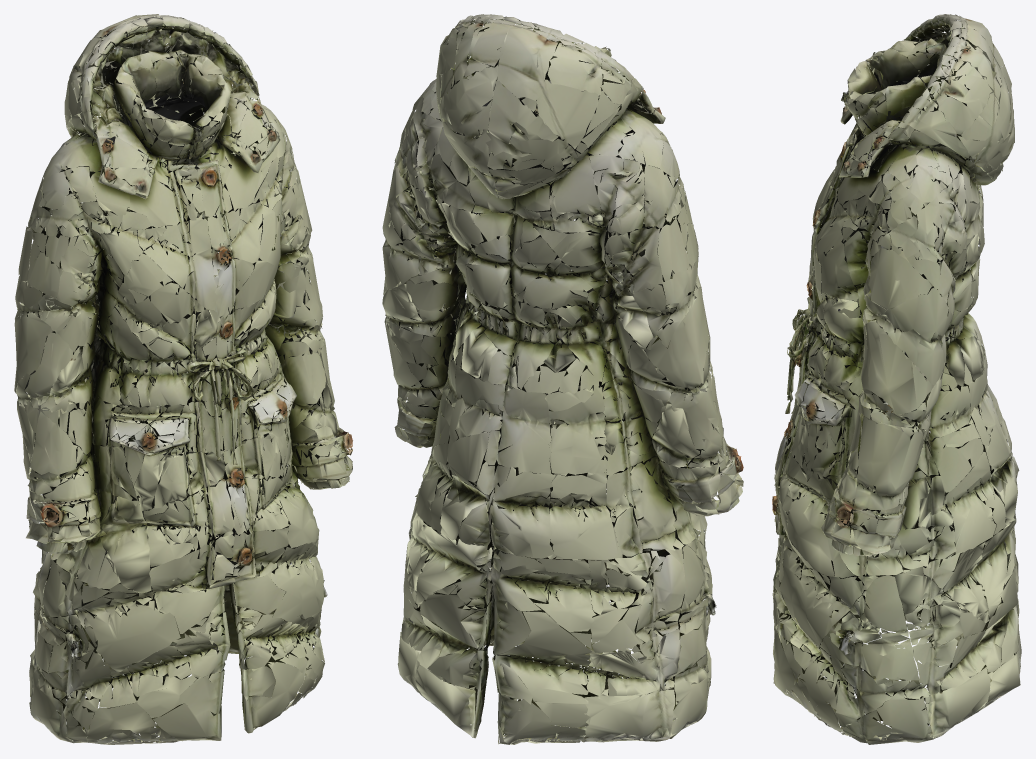
The model's file is parka.glb.
3 renders of one model, left to right at view 1: azimuth 30°, elevation 25°; view 2: azimuth 150°, elevation 25°; view 3: azimuth 270°, elevation 25°, orthographic. The views are drawn at different scales.
Visible parts, largest first — view 1: parka; view 2: parka; view 3: parka.
Boxes of the visible parts, <box> form: parka: <box>14,14,352,744</box>; parka: <box>382,14,743,744</box>; parka: <box>772,14,1021,744</box>.
Size of the model in its own units: 0.5713 by 1.14 by 0.3916.
1 material, 1 textured.
